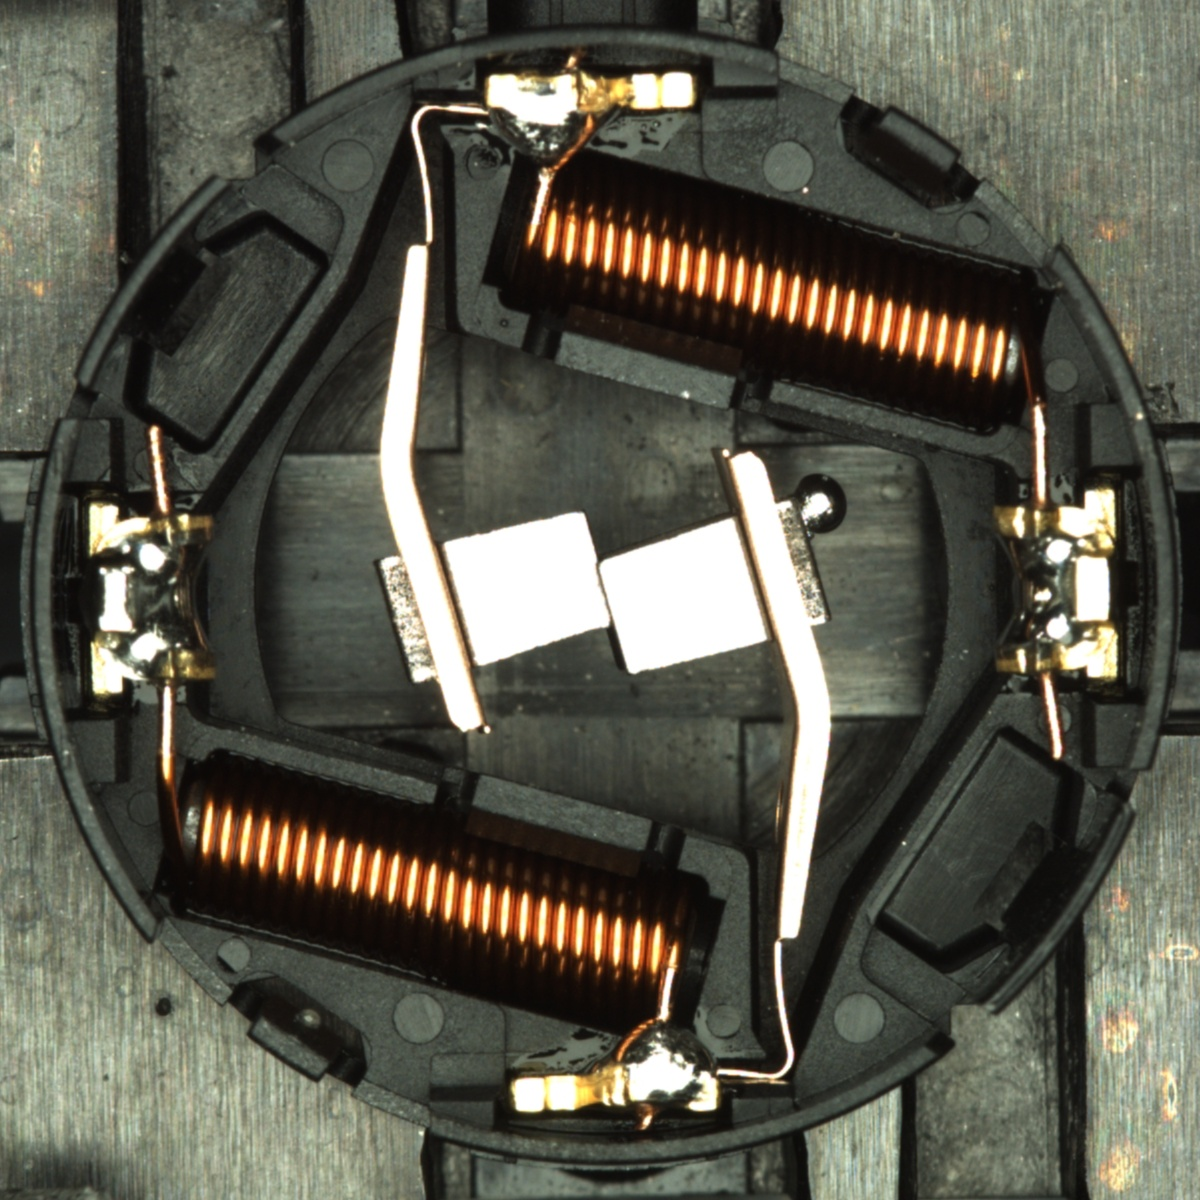1: (258, 55, 487, 279), (716, 953, 945, 1177)
2: (716, 55, 945, 279), (258, 953, 487, 1177)
3: (29, 279, 258, 503), (945, 729, 1175, 953)
4: (258, 279, 487, 503), (716, 729, 945, 953)
5: (487, 167, 716, 391), (487, 841, 716, 1065)
6: (258, 729, 487, 953)
7: (945, 279, 1175, 503), (29, 729, 258, 953)
chau_dien: (81, 497, 221, 698), (985, 487, 1125, 686)
hat_chi: (795, 474, 848, 533)
tay_choi: (484, 69, 701, 174), (509, 1016, 722, 1116)
thanh_de: (955, 787, 1142, 1030), (62, 163, 247, 404)
